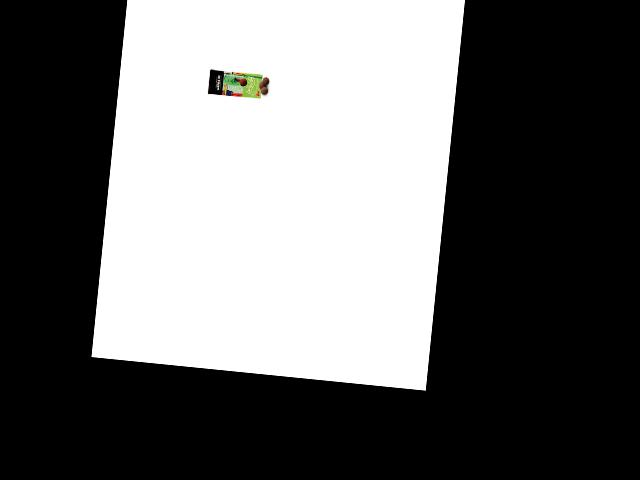chocolate: (205, 63, 264, 102)
